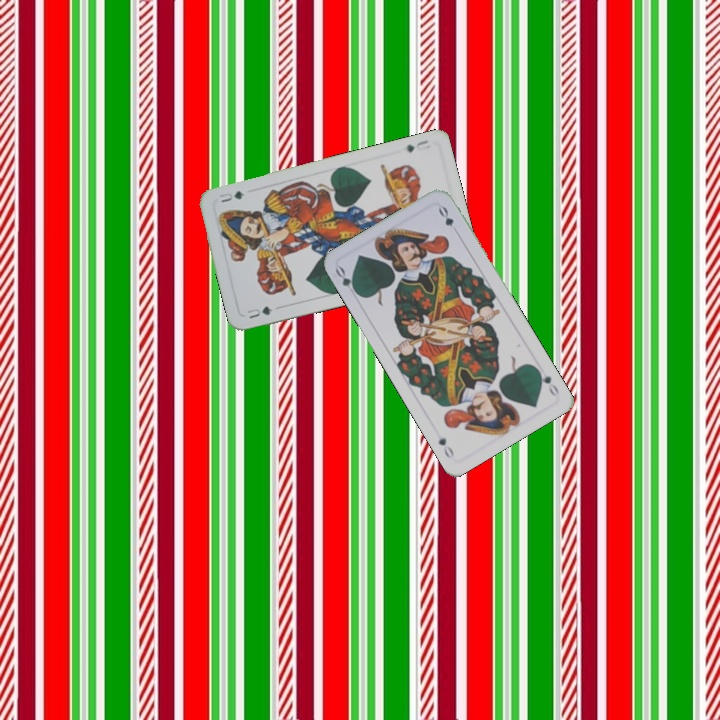GO: (331, 262, 362, 298), (532, 364, 562, 399)
GU: (243, 302, 275, 321), (402, 136, 433, 155)
